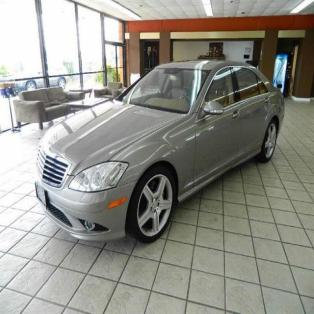Auto: (33, 62, 285, 243)
